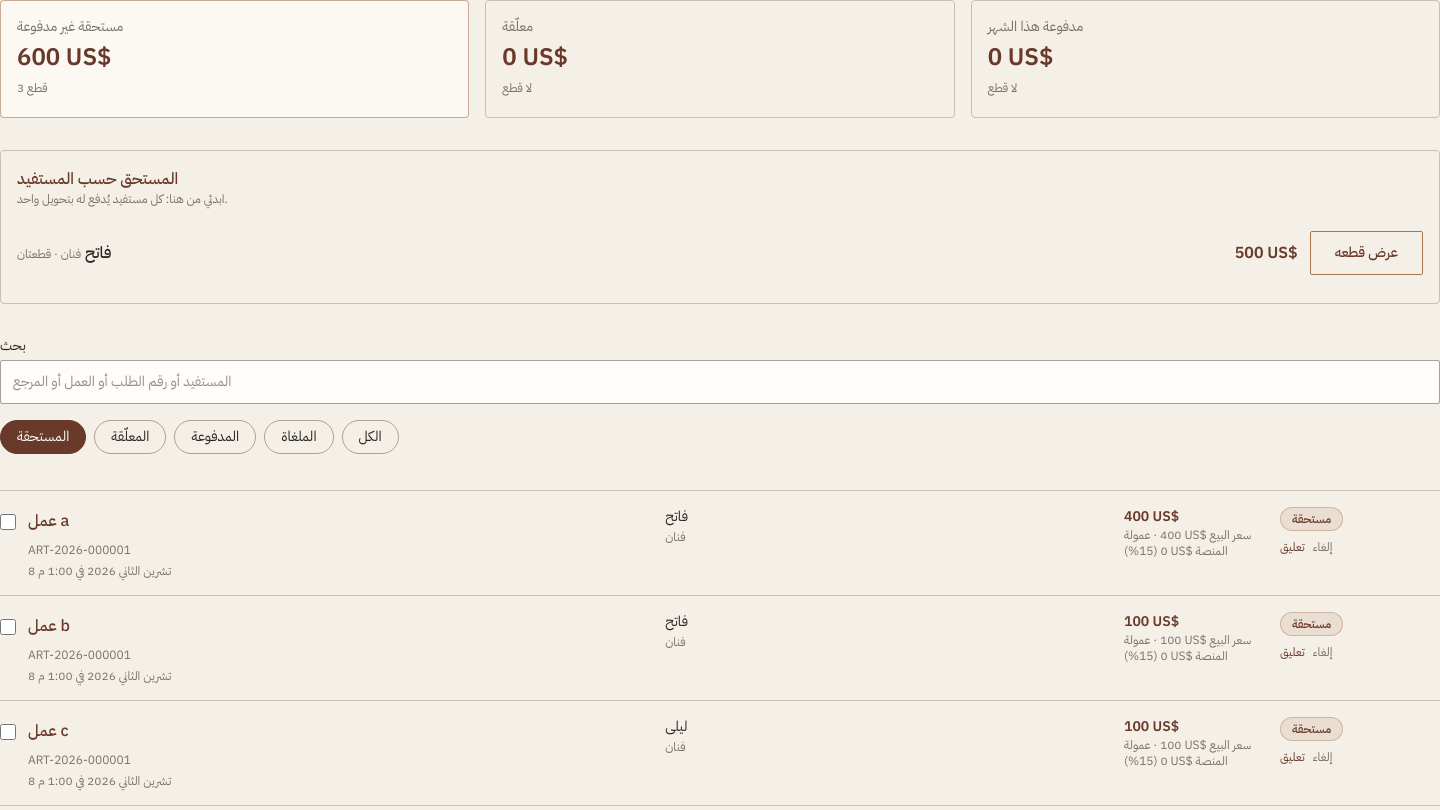
SettlementsManager › requires a reason to put a settlement on hold
Click the 1st button "تعليق" at [1292, 547], box 1280,539 -> 1305,555
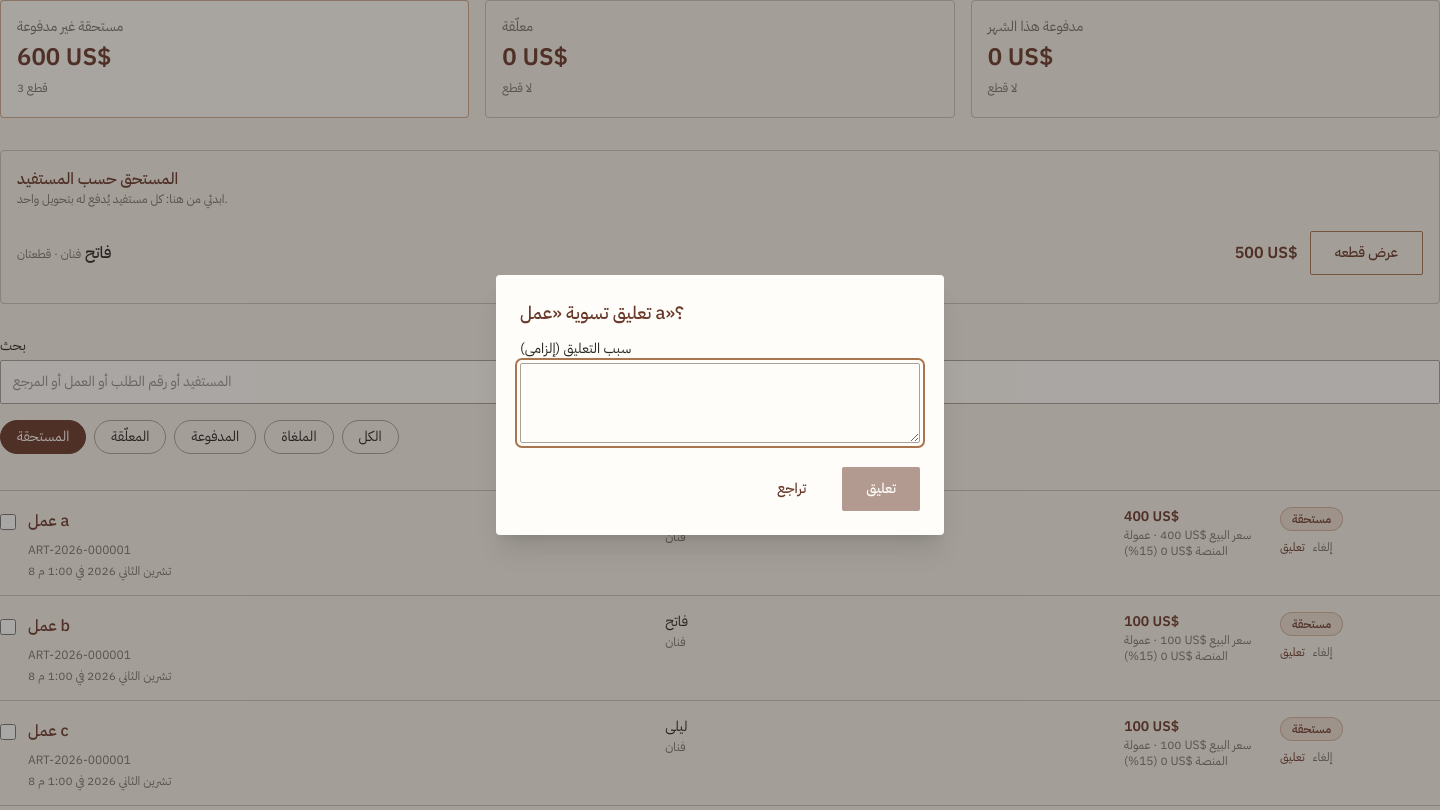
Expected: the button "تعليق" is disabled, 842,467 -> 920,511
